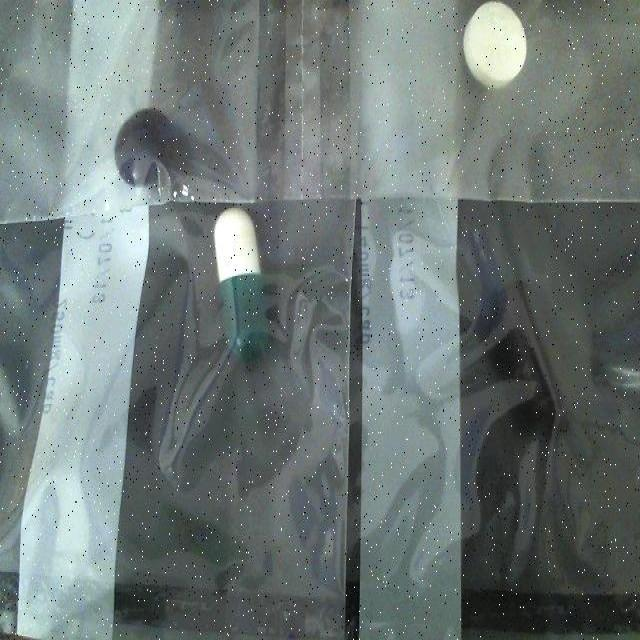pill: (214, 208, 268, 361), (462, 0, 526, 88)
